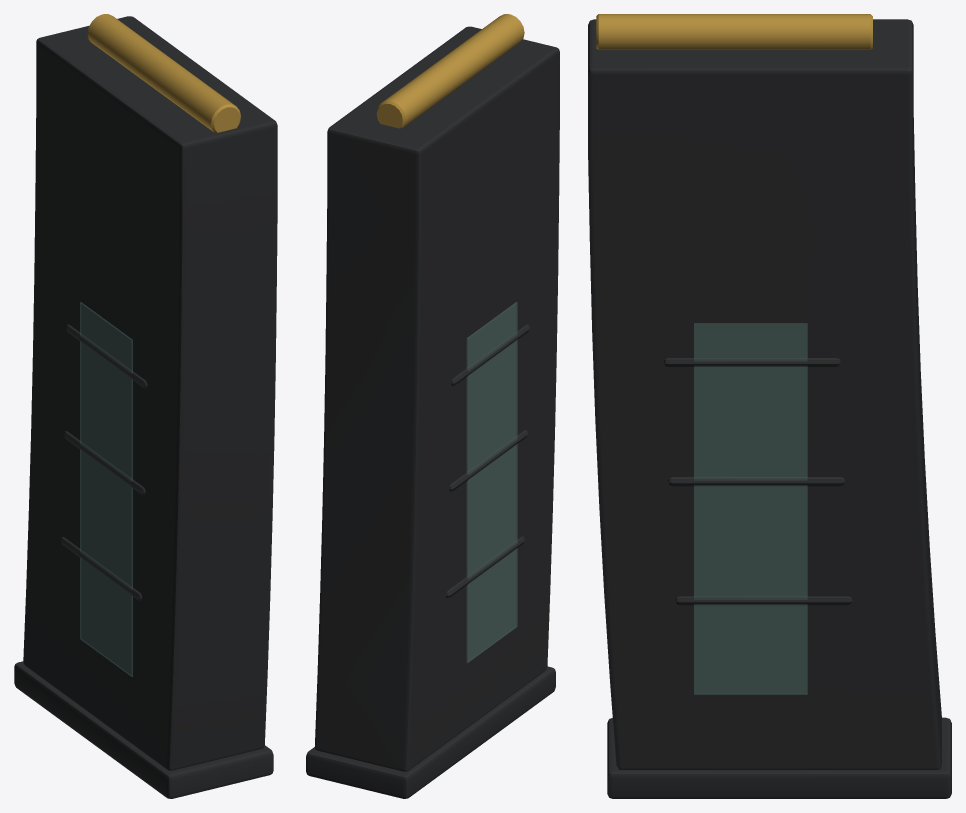
File: mod_falchion_extended_mag.glb
3 views of the same model, side by side, from view 1: azimuth 30°, elevation 25°; view 2: azimuth 150°, elevation 25°; view 3: azimuth 270°, elevation 25° (orthographic). The views are drawn at different scales.
Parts seen in each view (by area): view 1: Magazine, MagazineWindow, MagazineRound; view 2: Magazine, MagazineWindow, MagazineRound; view 3: Magazine, MagazineWindow, MagazineRound.
Boxes of the visible parts, bbox=[...] form: Magazine: bbox=[14, 16, 277, 798]; MagazineWindow: bbox=[80, 302, 132, 676]; MagazineRound: bbox=[87, 14, 240, 132]; Magazine: bbox=[306, 26, 559, 798]; MagazineWindow: bbox=[466, 302, 517, 662]; MagazineRound: bbox=[376, 14, 524, 128]; Magazine: bbox=[588, 19, 951, 798]; MagazineWindow: bbox=[694, 323, 807, 694]; MagazineRound: bbox=[596, 14, 872, 49].
Size of the model in its own units: 0.0284 by 0.1744 by 0.076.
